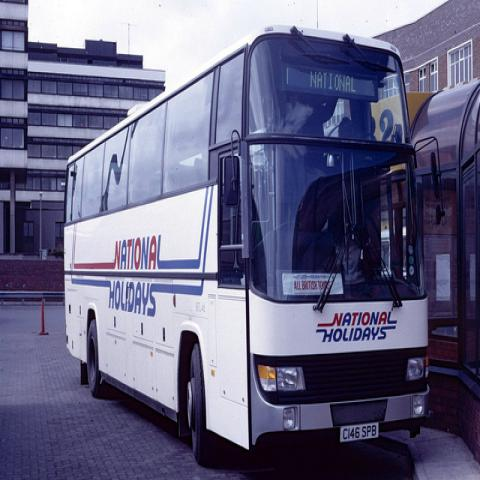bus: (65, 24, 447, 471)
